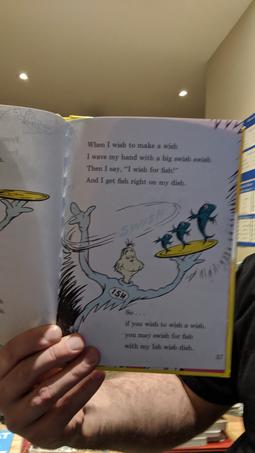text block: (78, 132, 221, 197), (117, 306, 216, 354)
